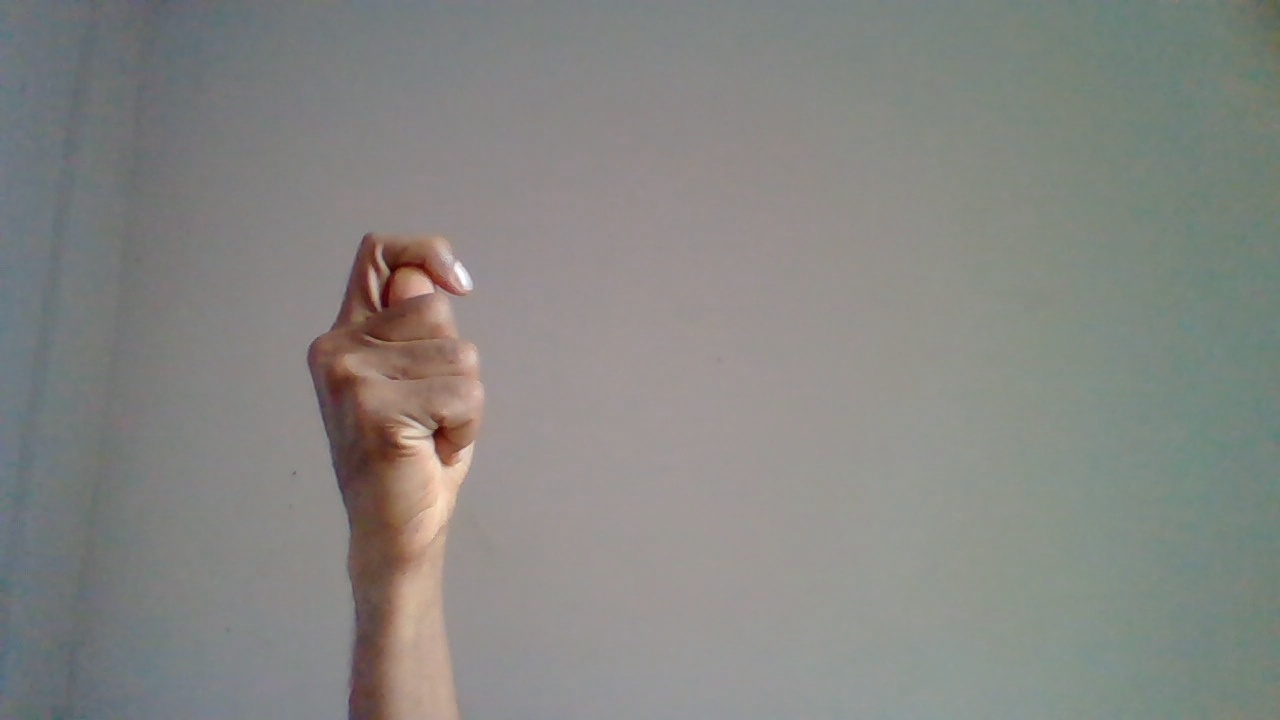che: (306, 231, 495, 656)
